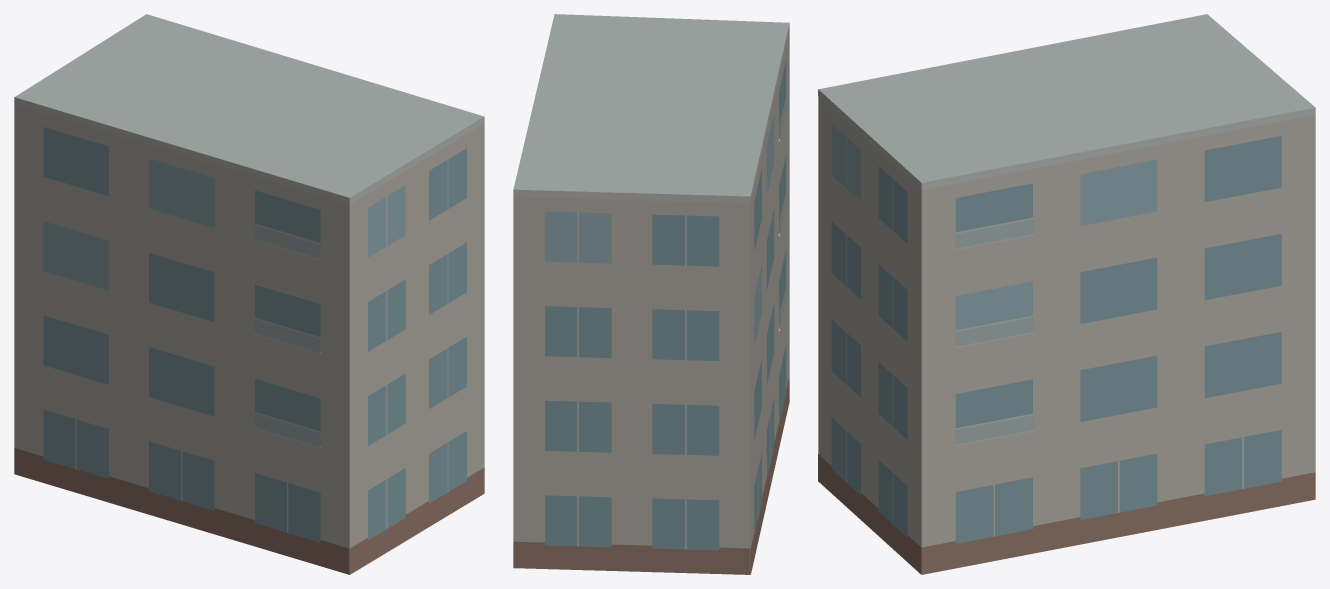
File: survey-upis-32748217.glb
3 views of the same model, side by side, from view 1: azimuth 30°, elevation 25°; view 2: azimuth 150°, elevation 25°; view 3: azimuth 270°, elevation 25° (orthographic). The views are drawn at different scales.
Visible parts, largest first — view 1: survey-upis-32748217.tmp; view 2: survey-upis-32748217.tmp; view 3: survey-upis-32748217.tmp.
Part boxes in pixels (x1,y1,x2,y2): survey-upis-32748217.tmp: [14, 14, 484, 574]; survey-upis-32748217.tmp: [513, 14, 789, 574]; survey-upis-32748217.tmp: [818, 14, 1315, 574].
Bounding box in the file's own units: 12.23 × 13.23 × 15.22.
